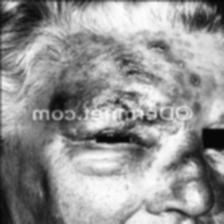Toxin: (109, 52, 139, 76), (109, 88, 141, 106)
